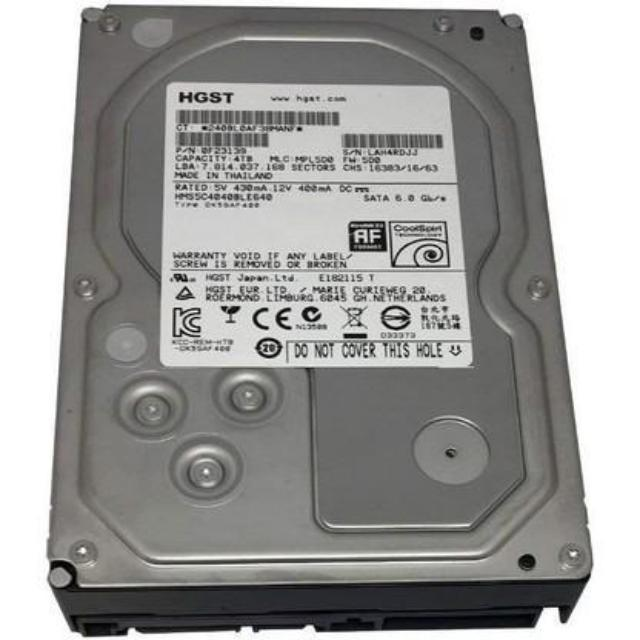DISK: (51, 1, 588, 634)
